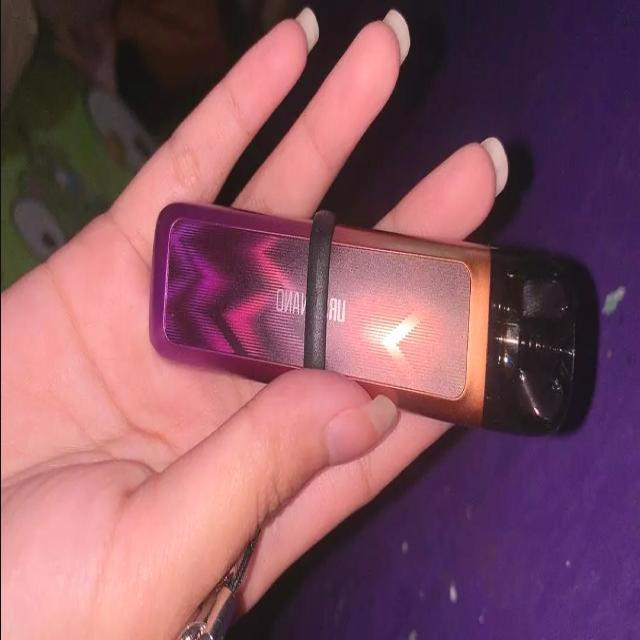Hazard: (150, 205, 604, 437)
